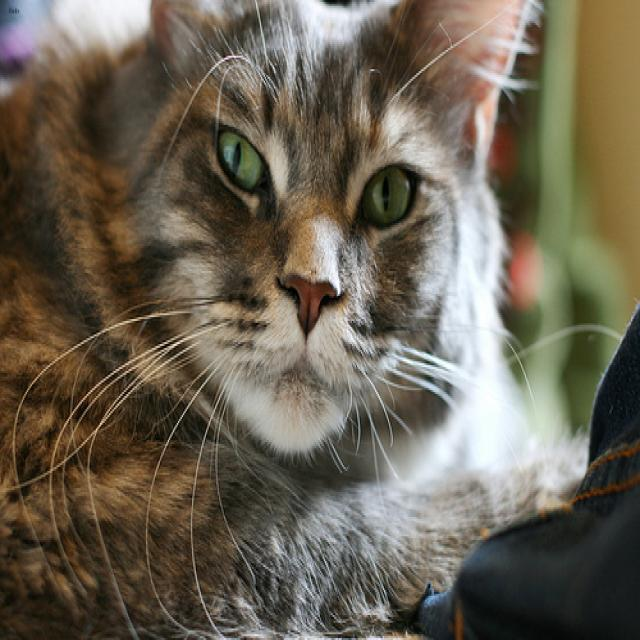Maine_Coon: (125, 0, 536, 461)
